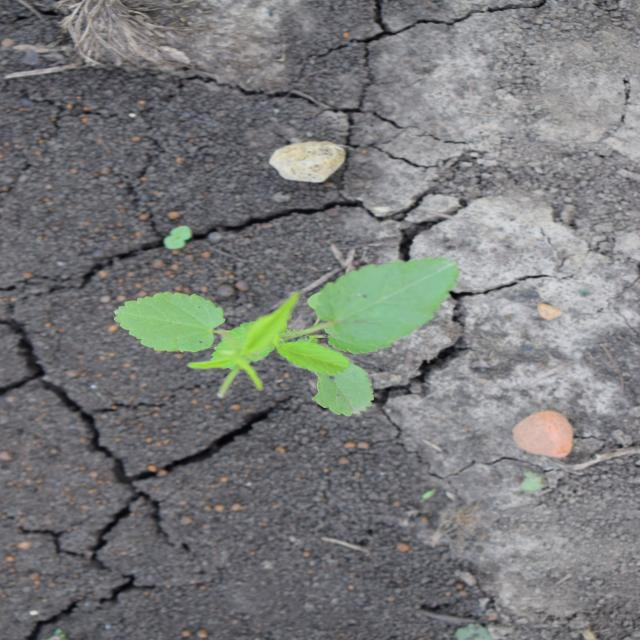PricklySida: (110, 254, 462, 417)
